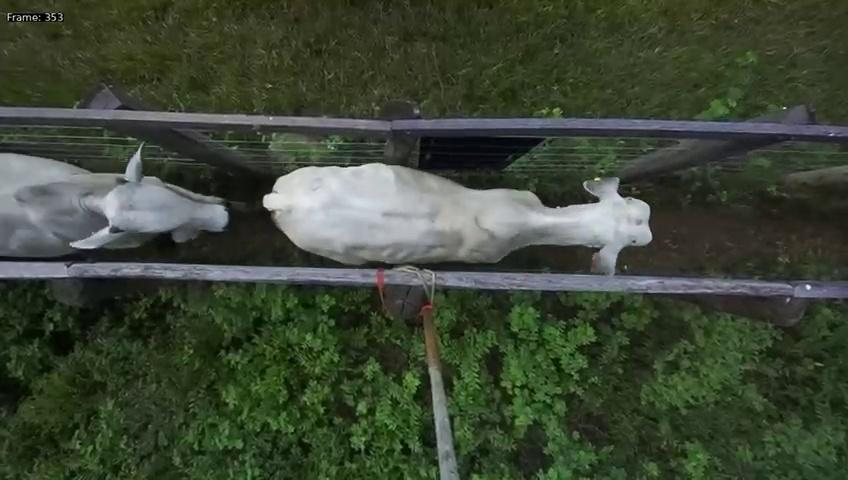cattle: (247, 132, 653, 275)
